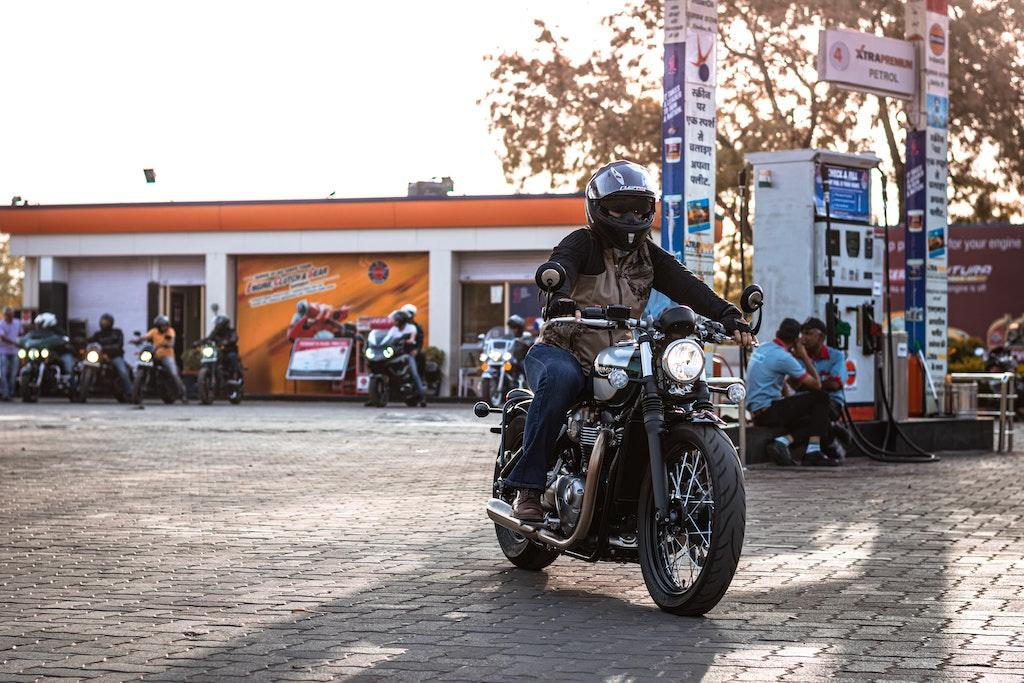helmet: (584, 158, 657, 252)
